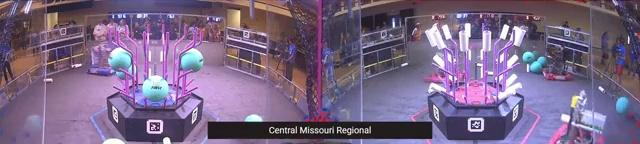reef: (423, 21, 526, 140), (108, 24, 205, 140)
robot: (548, 90, 605, 144), (424, 48, 467, 84), (88, 40, 117, 77), (543, 50, 574, 82)
